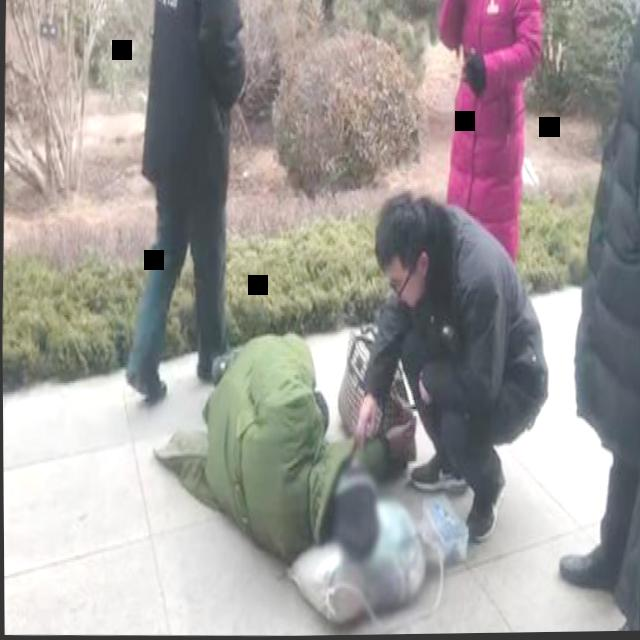Fall-Detected: (154, 296, 436, 638)
